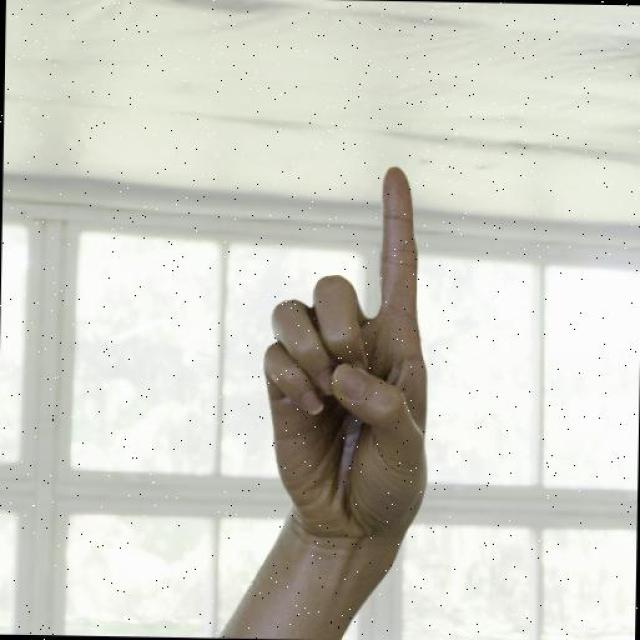D: (235, 150, 449, 584)
